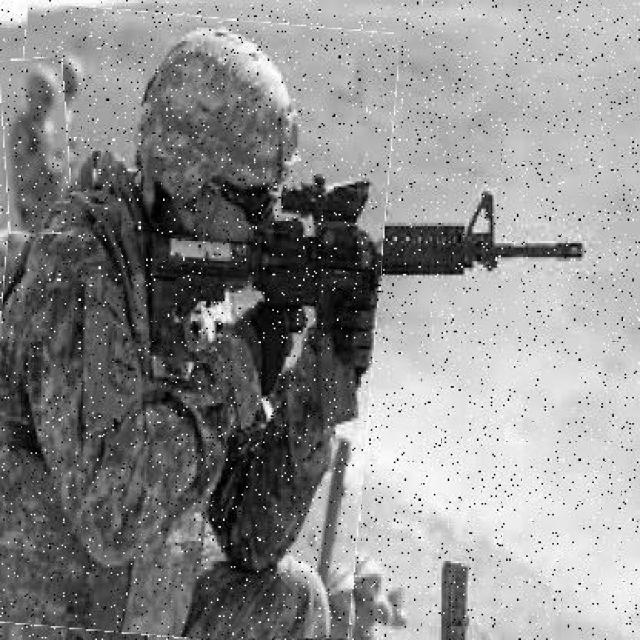Person: (1, 11, 389, 640), (1, 60, 70, 237)
